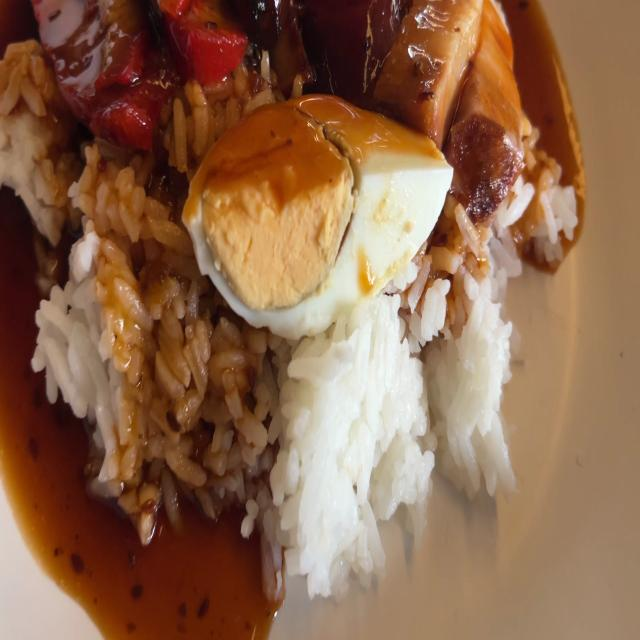red_pork_and_crispy_pork: (205, 100, 453, 311)
stir_fried_basil: (251, 0, 391, 88)
